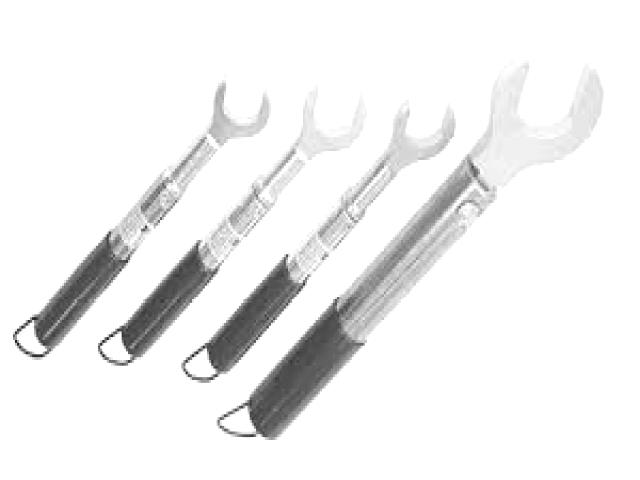Wrench: (250, 52, 604, 433), (184, 102, 452, 383), (14, 77, 267, 358), (120, 84, 364, 361)
